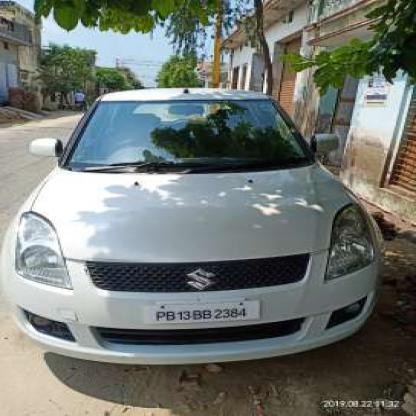license: (140, 298, 264, 325)
